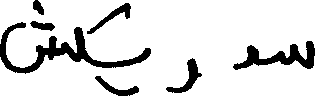د: (230, 42, 256, 70)
ر: (165, 56, 198, 93)
س: (279, 38, 313, 69)
ش: (0, 0, 67, 75)
ك: (74, 0, 127, 94)
ي: (99, 45, 150, 95)
